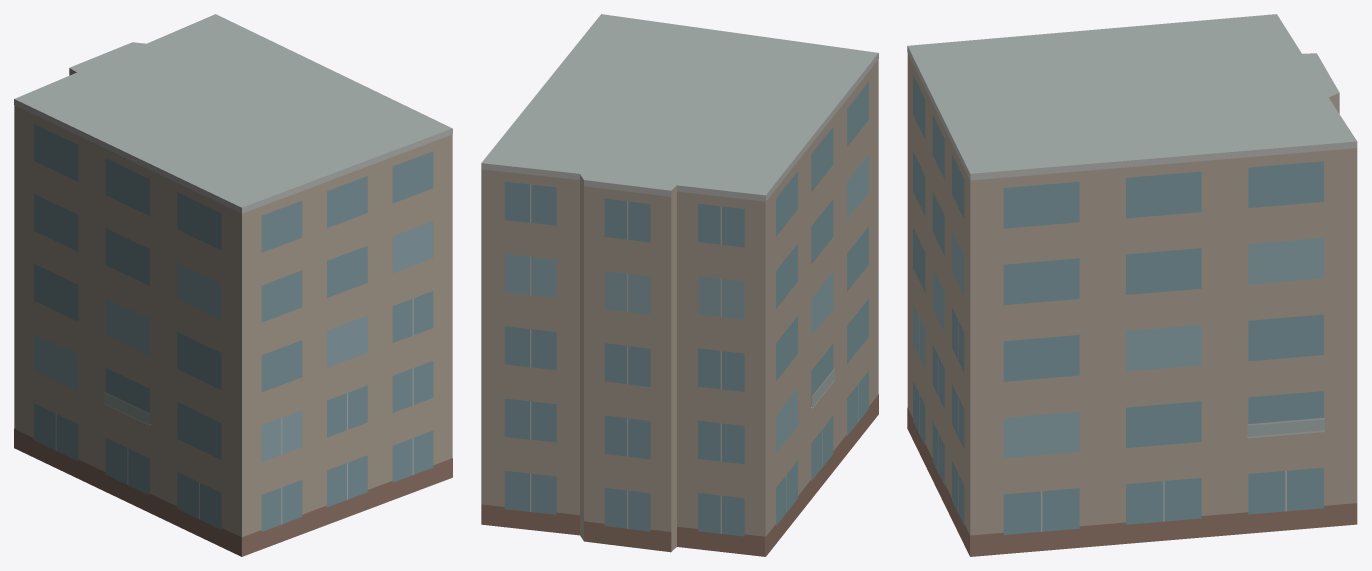
File: survey-upis-32908800.glb
3 renders of one model, left to right at view 1: azimuth 30°, elevation 25°; view 2: azimuth 150°, elevation 25°; view 3: azimuth 270°, elevation 25°, orthographic. The views are drawn at different scales.
Parts seen in each view (by area): view 1: survey-upis-32908800.tmp; view 2: survey-upis-32908800.tmp; view 3: survey-upis-32908800.tmp.
Boxes of the visible parts, x1,y1,x2,y2 form: survey-upis-32908800.tmp: (14,14,452,556); survey-upis-32908800.tmp: (481,14,878,556); survey-upis-32908800.tmp: (907,14,1357,556).
Size of the model in its own units: 12.72 by 14.2 by 15.13.
